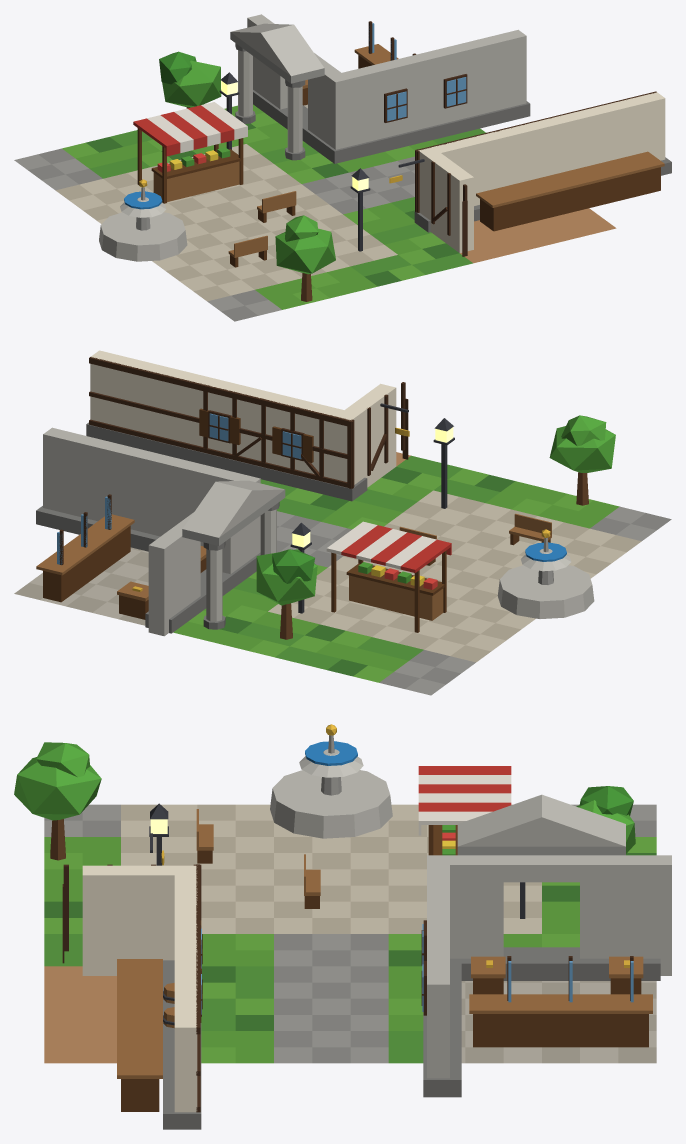
Rendered from chunk_2_2.glb.
3 renders of one model, top to bottom at view 1: azimuth 30°, elevation 25°; view 2: azimuth 150°, elevation 25°; view 3: azimuth 270°, elevation 25°, orthographic. The views are drawn at different scales.
Parts seen in each view (by area): view 1: chunk_2_2; view 2: chunk_2_2; view 3: chunk_2_2.
Part boxes in pixels (x1=…): chunk_2_2: x1=14, y1=14, x2=671, y2=321; chunk_2_2: x1=14, y1=350, x2=671, y2=695; chunk_2_2: x1=14, y1=724, x2=671, y2=1129.
Bounding box in the file's own units: 21.21 × 4.3 × 17.19.
